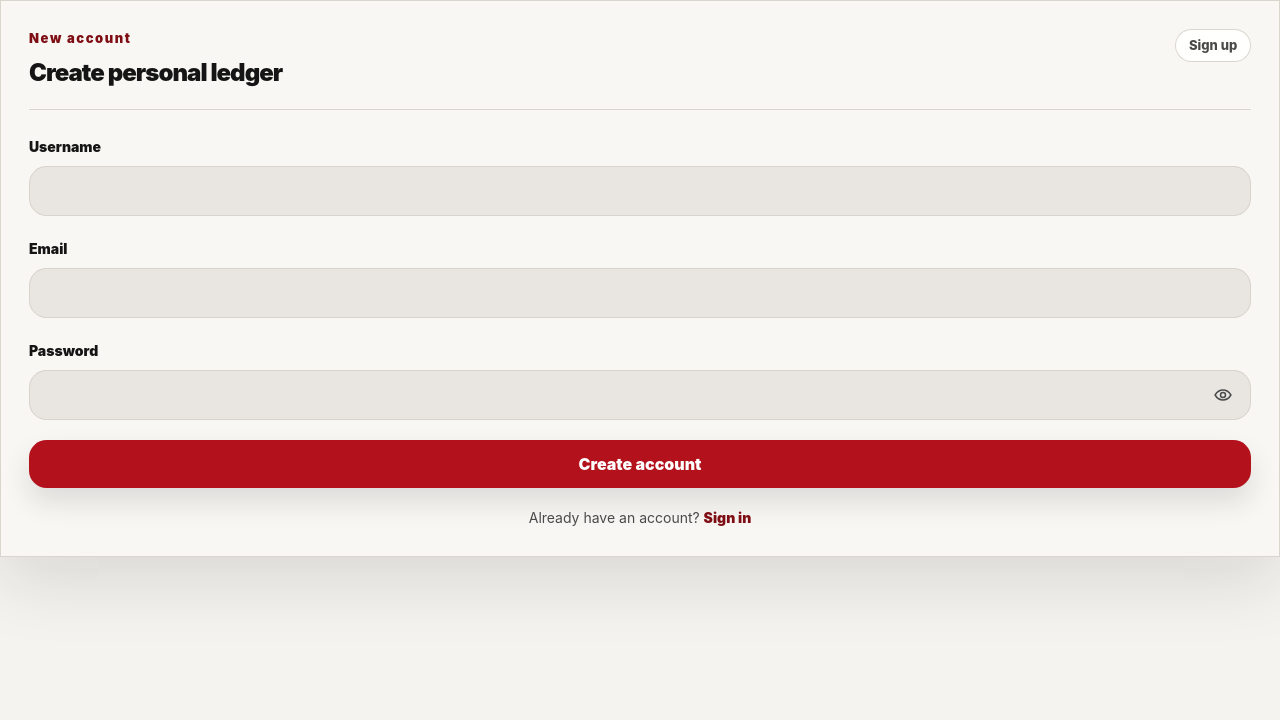
Test: auth forms › shows register validation errors
What coordinates should you click on to do the following:
click the button "Create account"
I would click on:
 (640, 464)
Its box is [29,440,1251,488].
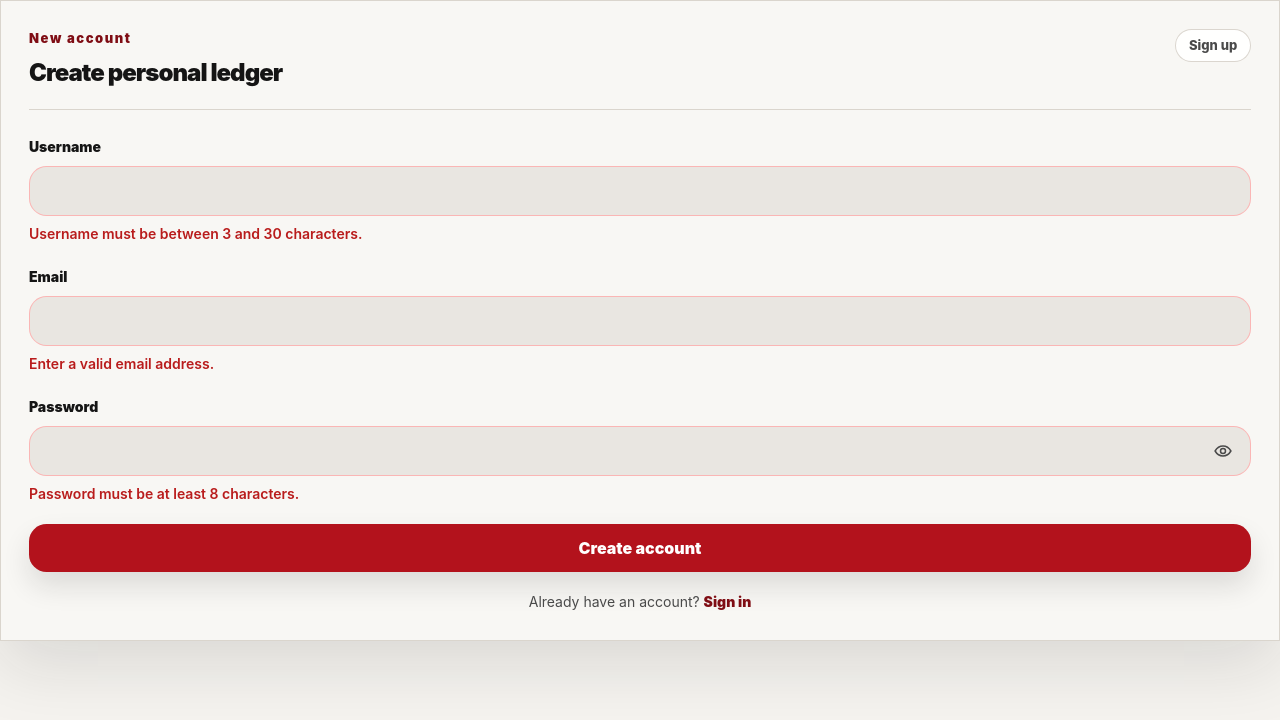
expect the text "Username must be between 3 and 30 characters." is shown: met, box [29,224,362,242]
expect the text "Enter a valid email address." is shown: met, box [29,354,214,372]
expect the text "Password must be at least 8 characters." is shown: met, box [29,484,299,502]
